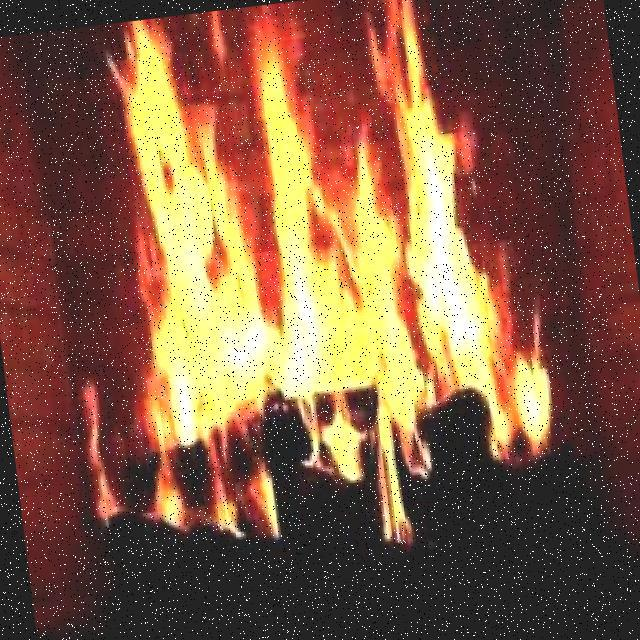Fire: (112, 18, 549, 498)
